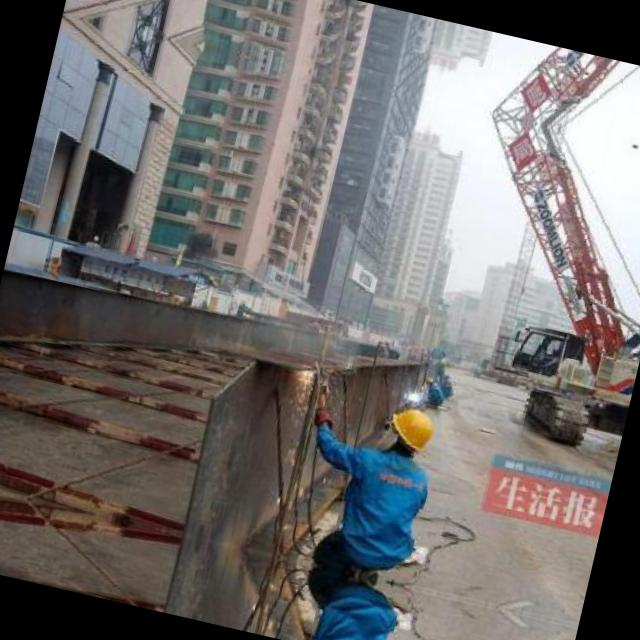helmet: (378, 399, 440, 459)
